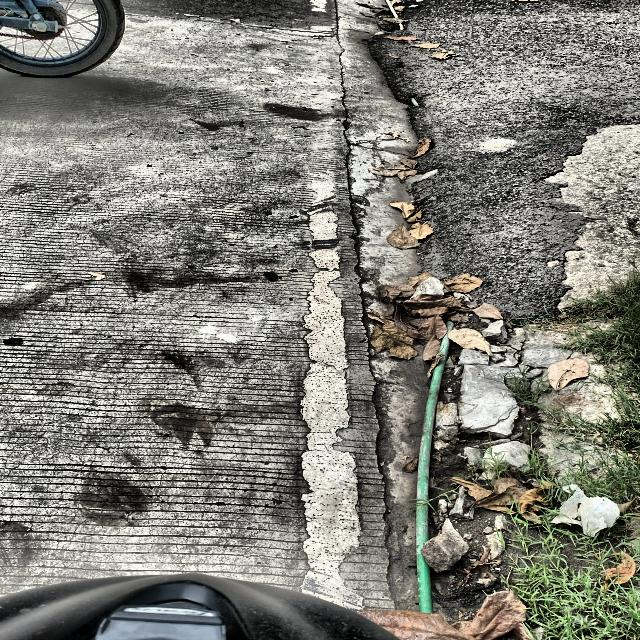no_or_faded_road_markings: (301, 247, 361, 599), (309, 205, 338, 240)
